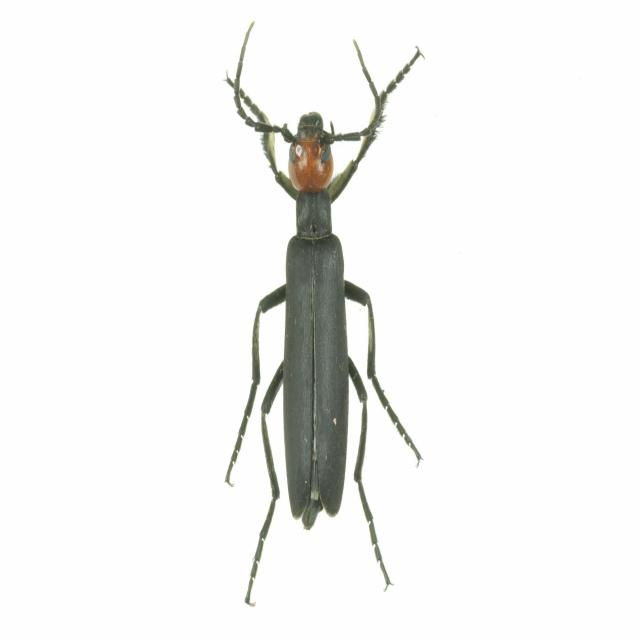BlisterBeetle-Adult-: (222, 14, 423, 605)
